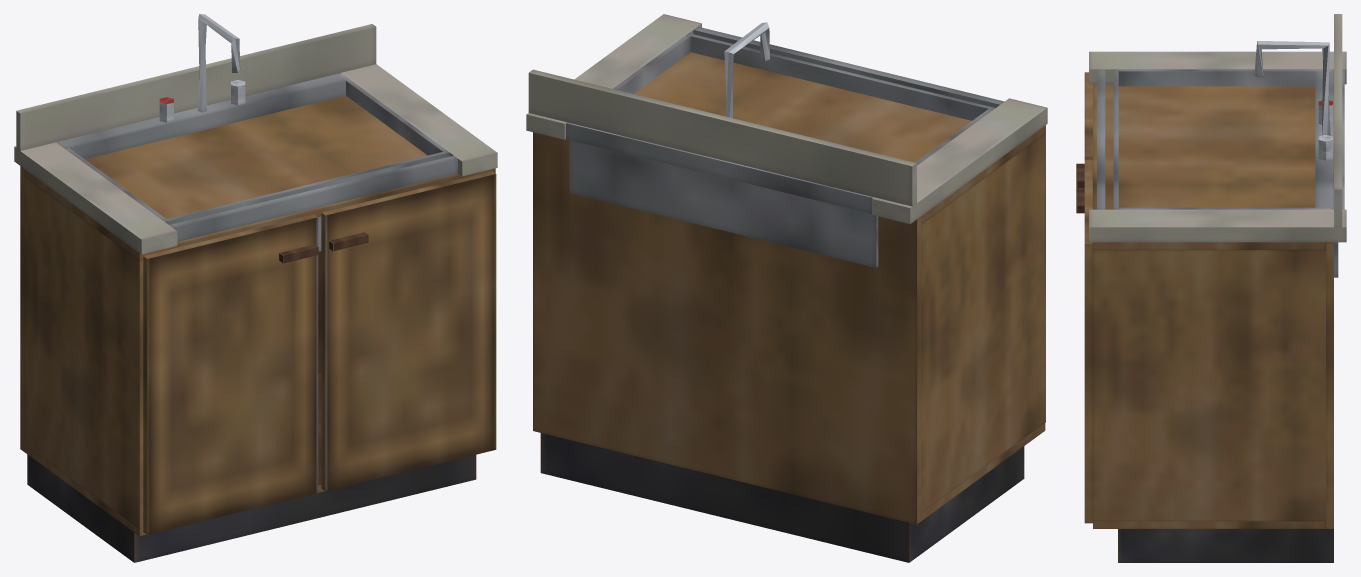
Rendered from kitchen_sink.fbx.
3 views of the same model, side by side, from view 1: azimuth 30°, elevation 25°; view 2: azimuth 150°, elevation 25°; view 3: azimuth 270°, elevation 25° (orthographic). The views are drawn at different scales.
Parts seen in each view (by area): view 1: kitchen_sink, kitchen_sink_door; view 2: kitchen_sink; view 3: kitchen_sink, kitchen_sink_door.
Boxes of the visible parts, x1,y1,x2,y2 form: kitchen_sink: [14, 14, 497, 562]; kitchen_sink_door: [321, 171, 496, 491]; kitchen_sink: [526, 14, 1047, 562]; kitchen_sink: [1076, 14, 1346, 562]; kitchen_sink_door: [1076, 160, 1092, 523].
Bounding box in the file's own units: 1 × 1.16 × 0.65.
Materials: 1 (1 with a texture image).
